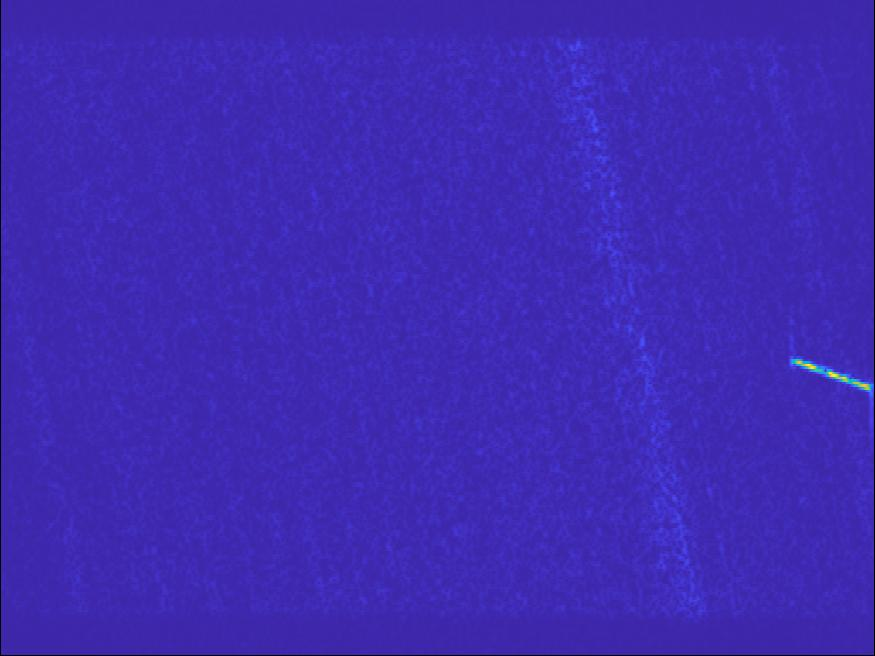Interference: (773, 346, 875, 416)
